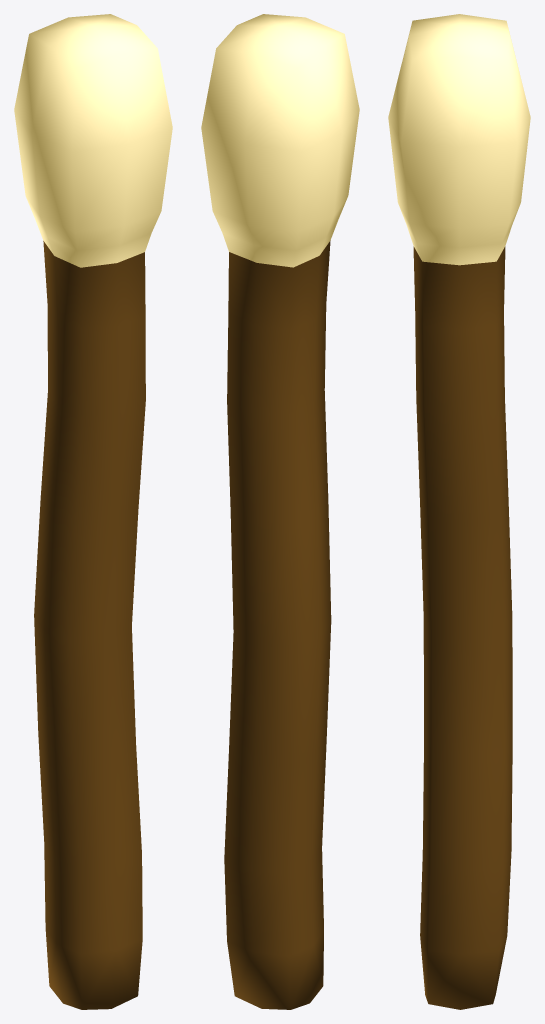
Rendered from Torch.fbx.
The picture shows the model from 3 angles, left to right: view 1: azimuth 30°, elevation 25°; view 2: azimuth 150°, elevation 25°; view 3: azimuth 270°, elevation 25°; orthographic projection.
Parts seen in each view (by area): view 1: Cube; view 2: Cube; view 3: Cube.
Boxes of the visible parts, <box> form: Cube: <box>14,14,172,1009</box>; Cube: <box>201,14,359,1009</box>; Cube: <box>388,14,530,1009</box>.
Bounding box in the file's own units: 588 × 4468 × 588.
